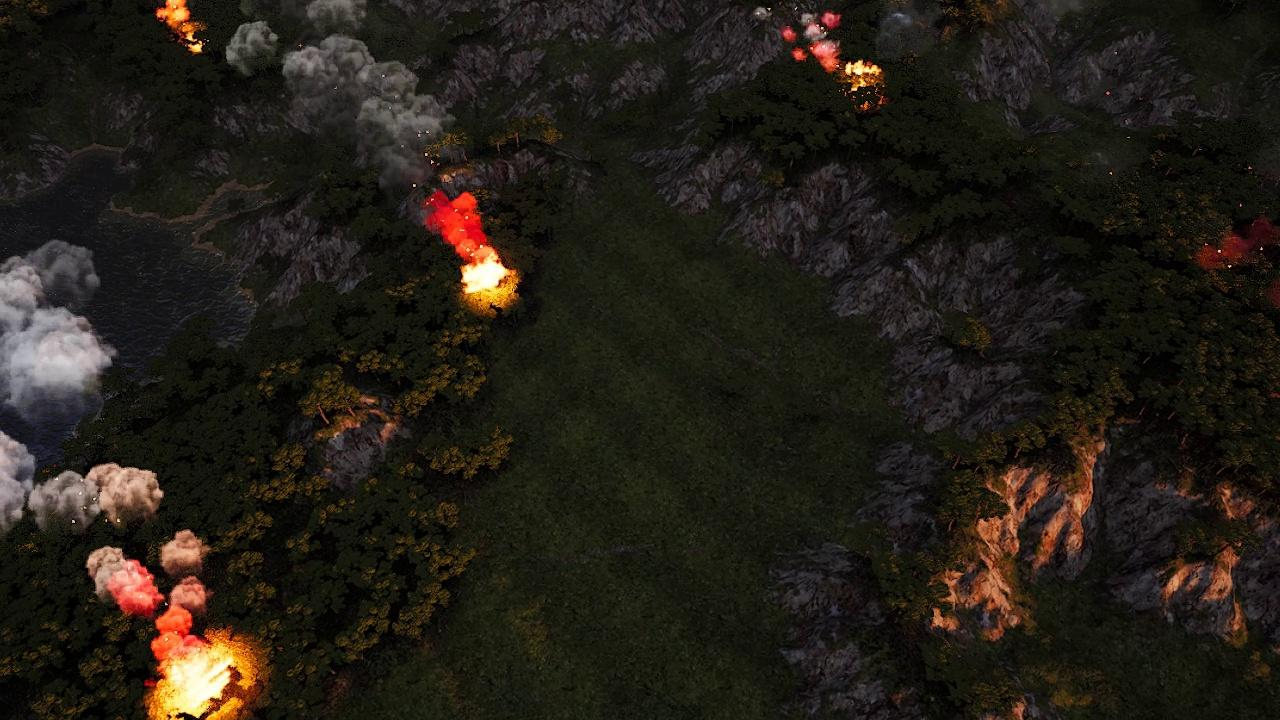fire: (154, 636, 241, 719), (461, 248, 515, 303), (161, 1, 207, 53), (842, 60, 886, 110), (1196, 233, 1245, 271)
smoke: (1, 239, 222, 655), (225, 4, 495, 262), (750, 2, 838, 68)
